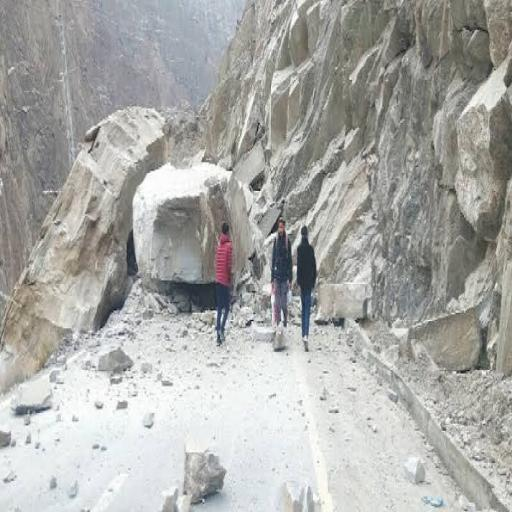Landslide: (69, 67, 258, 301)
Rock: (34, 110, 164, 286), (135, 174, 253, 276), (307, 262, 374, 336), (168, 447, 242, 505), (98, 339, 134, 385), (10, 386, 53, 420)
